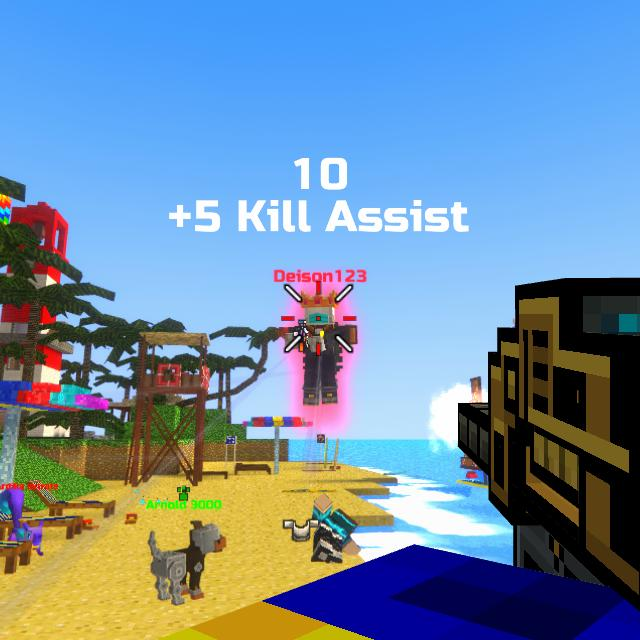Enemy: (288, 297, 360, 407)
